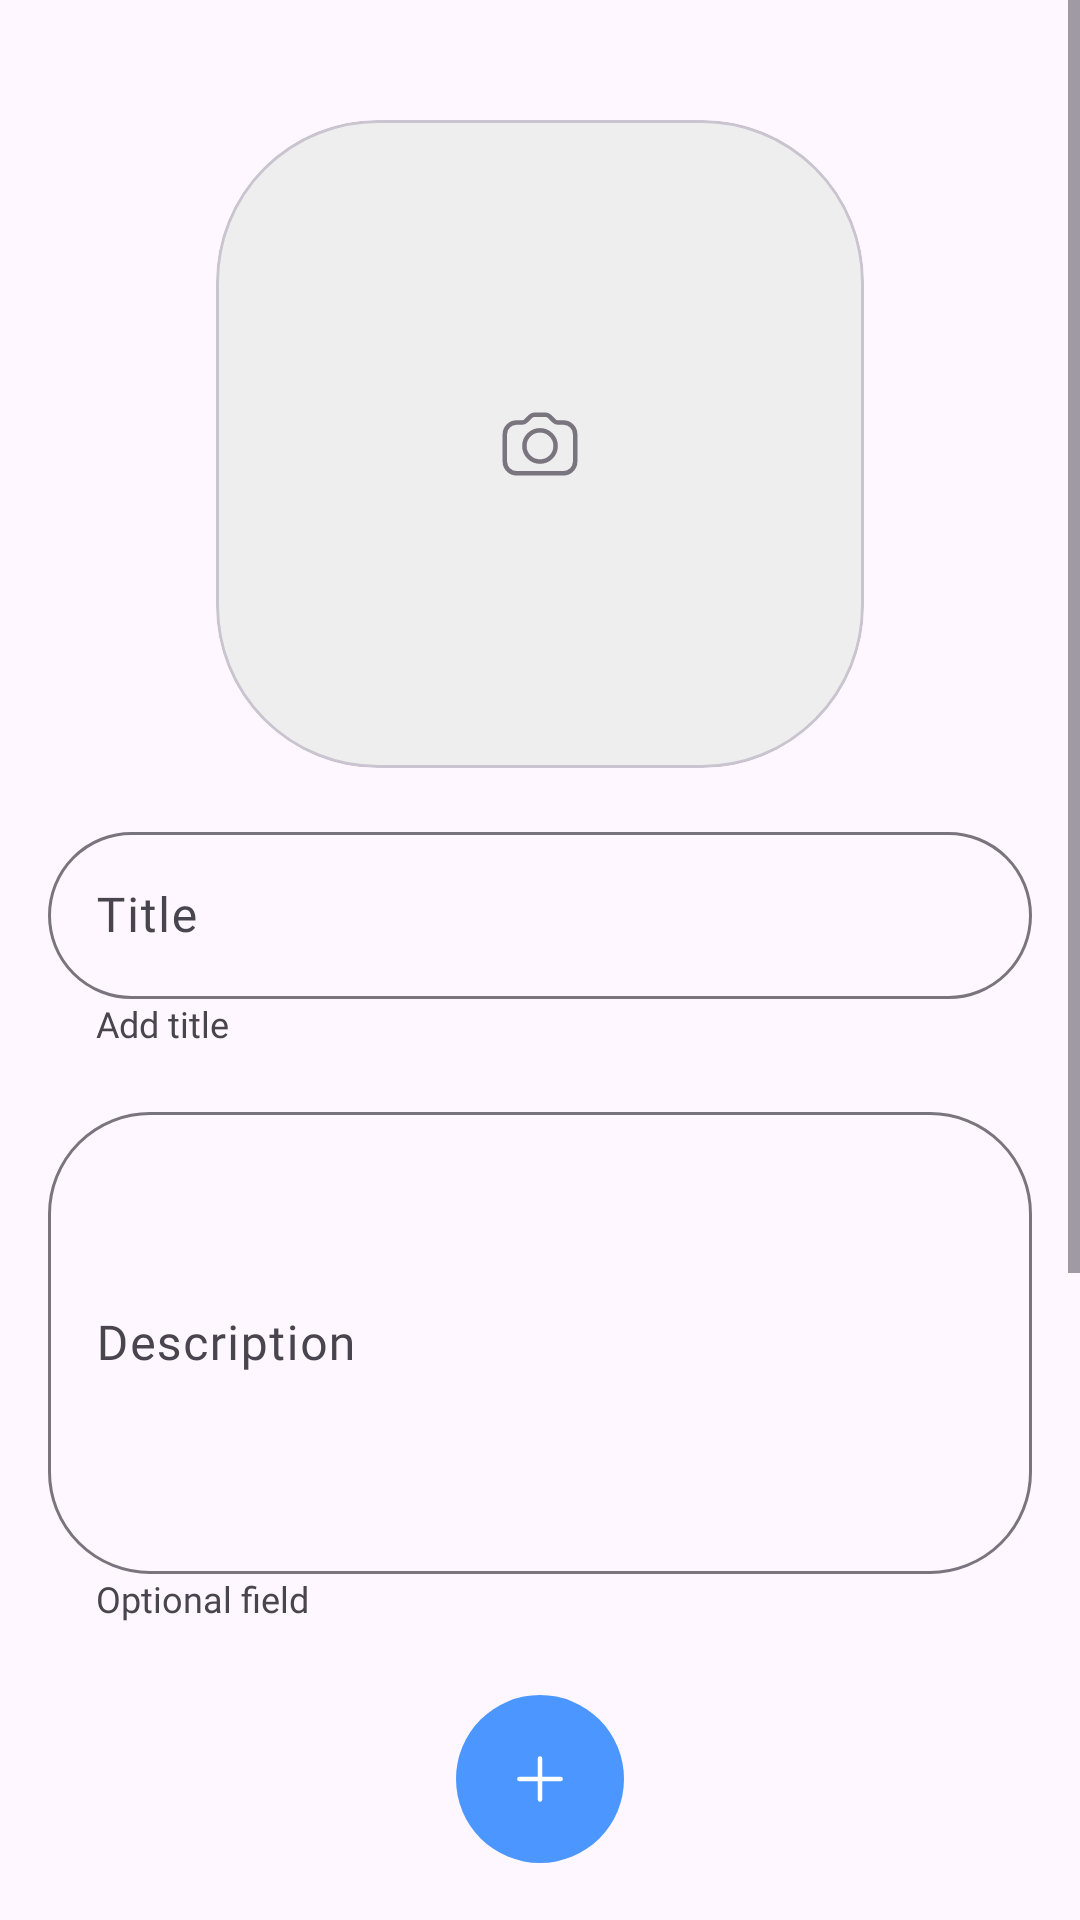

Named icons in this screenshot (1080 x 1920) and their centers, point (x, y):
add photo: point (540, 444)
